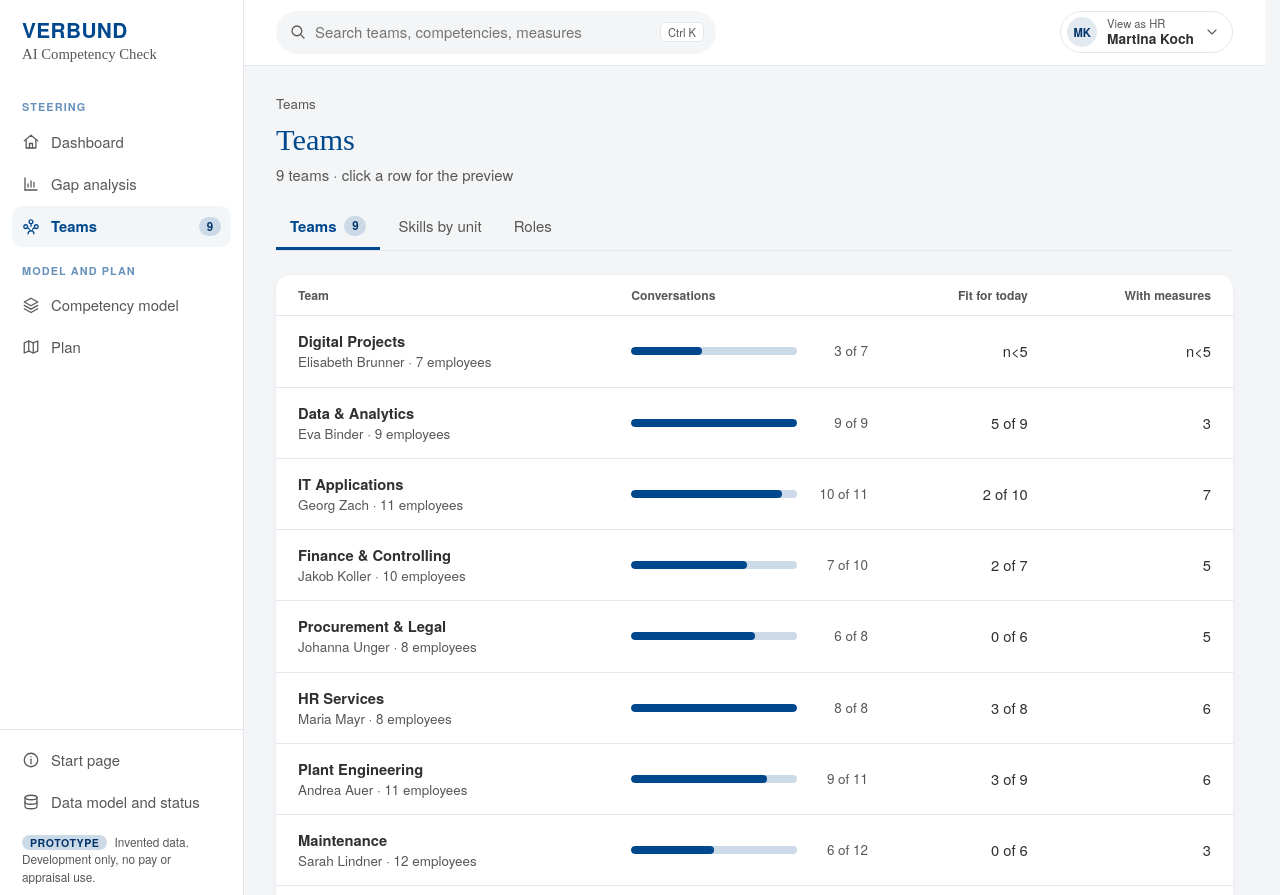
Test: start page › is where the app opens and where the logo leads back to
This screenshot has width=1280, height=895.
Later steps or results of the test are not shown.
Check: the navigation bar named "Main" is shown, box [12,100,231,357]
Click the link with aria-label "AI Competency Check, start page" at (89, 38), box [22,15,157,62]
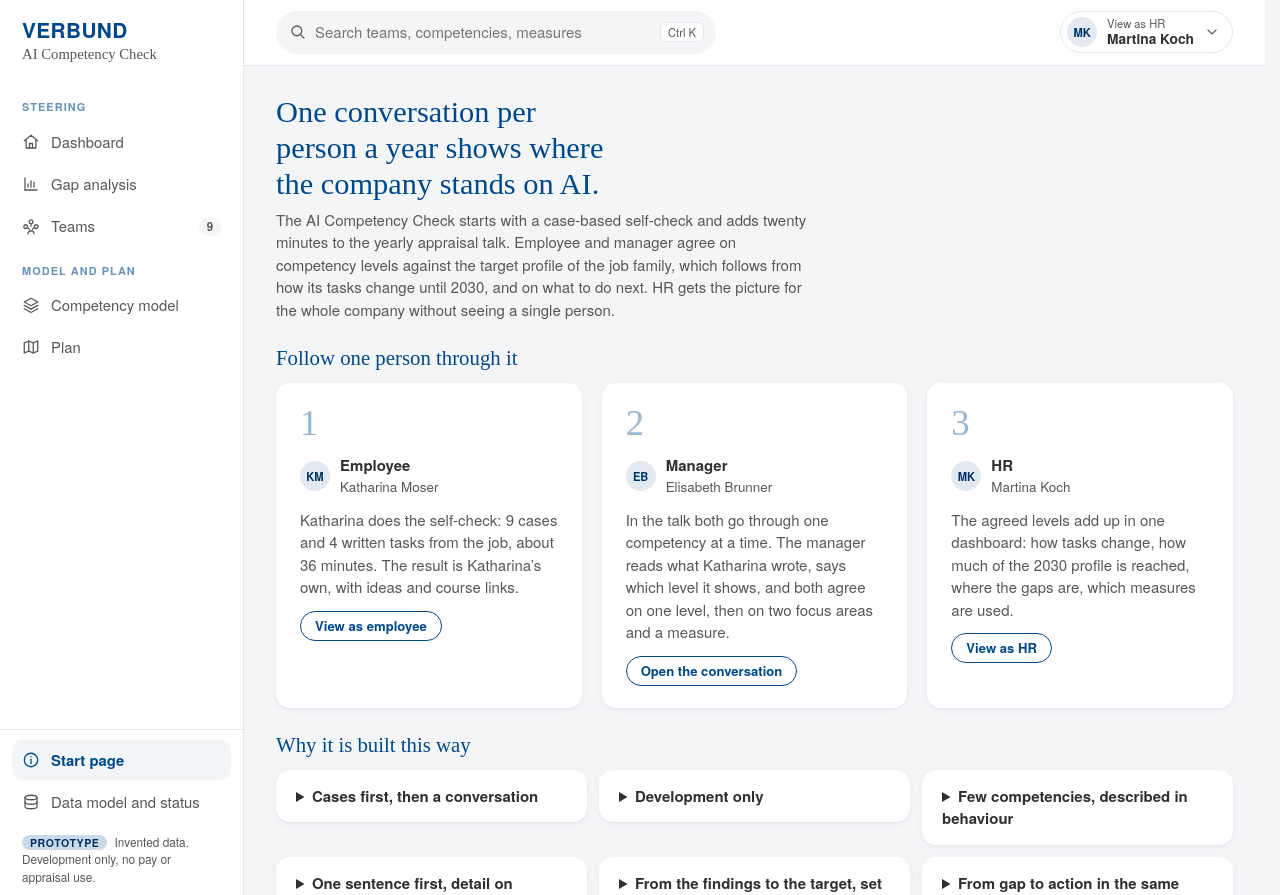
Check: the button "MK View as HR Martina Koch" is shown, box [1060,11,1233,53]
Check: the 1st heading shows "One conversation per person a year", box [276,94,603,202]
